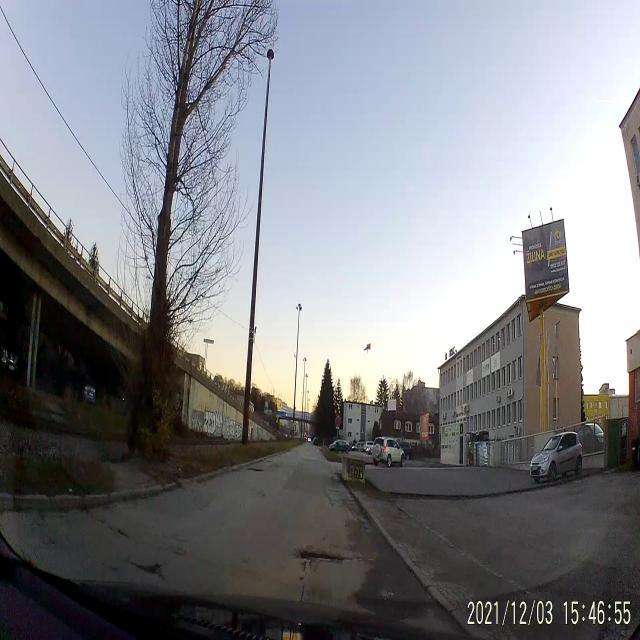Pothole: (295, 540, 348, 570), (128, 558, 166, 581), (246, 463, 266, 474)
